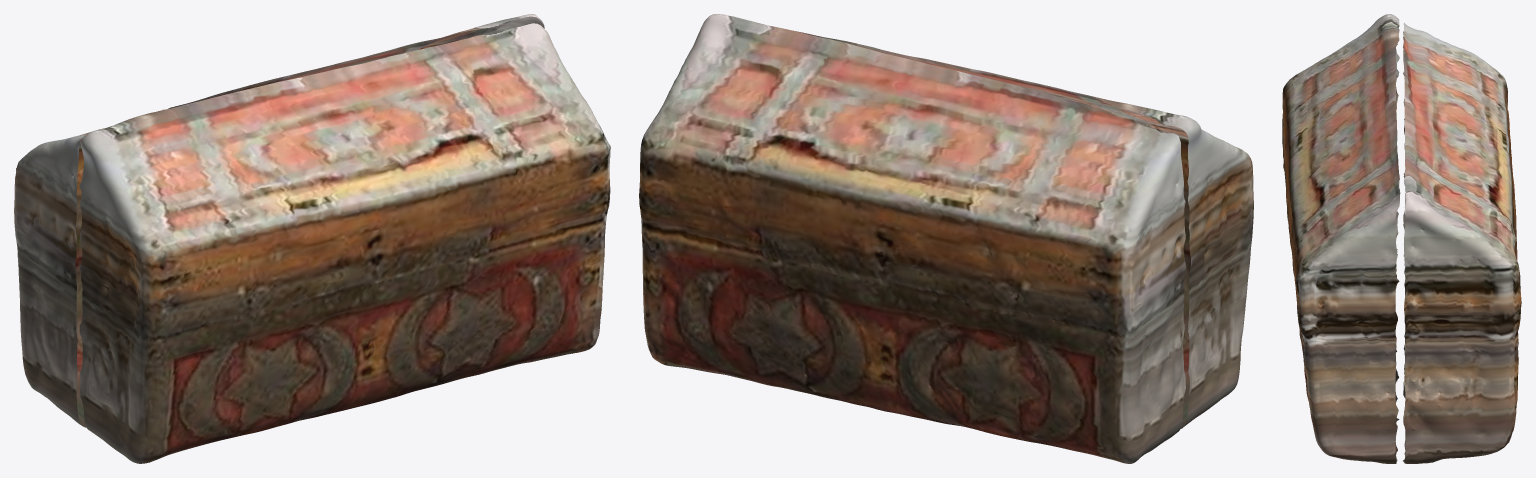
Rendered from kfl-2303.glb.
The picture shows the model from 3 angles, left to right: view 1: azimuth 30°, elevation 25°; view 2: azimuth 150°, elevation 25°; view 3: azimuth 270°, elevation 25°; orthographic projection. The views are drawn at different scales.
Visible parts, largest first — view 1: geometry_0; view 2: geometry_0; view 3: geometry_0.
Part boxes in pixels (bbox=[...]): geometry_0: bbox=[14, 14, 610, 463]; geometry_0: bbox=[639, 14, 1253, 463]; geometry_0: bbox=[1282, 14, 1521, 463].
Size of the model in its own units: 0.9934 by 0.6299 by 0.5116.
Materials: 1 (1 with a texture image).
